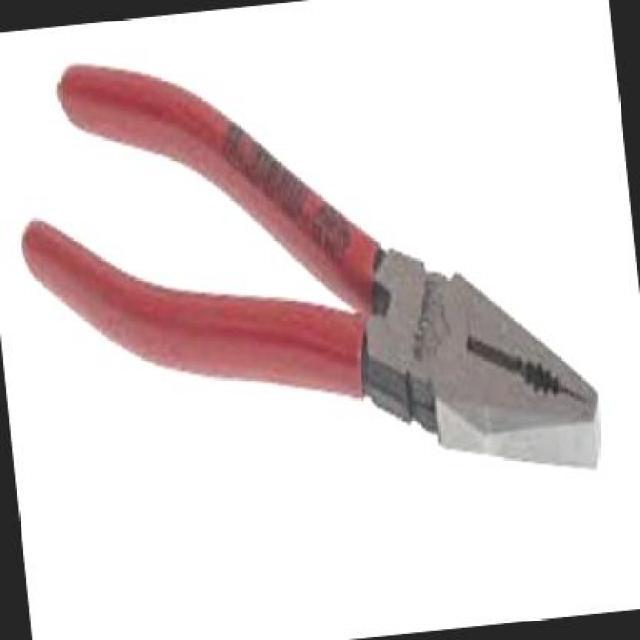pliers: (0, 0, 623, 558)
